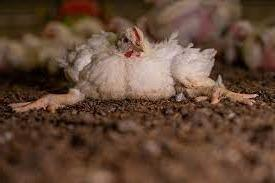AbNormal: (18, 26, 260, 115)
